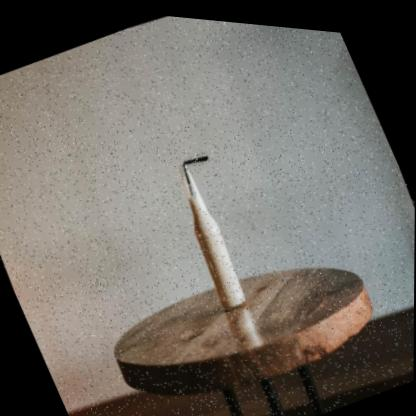Table: (69, 181, 415, 416)
